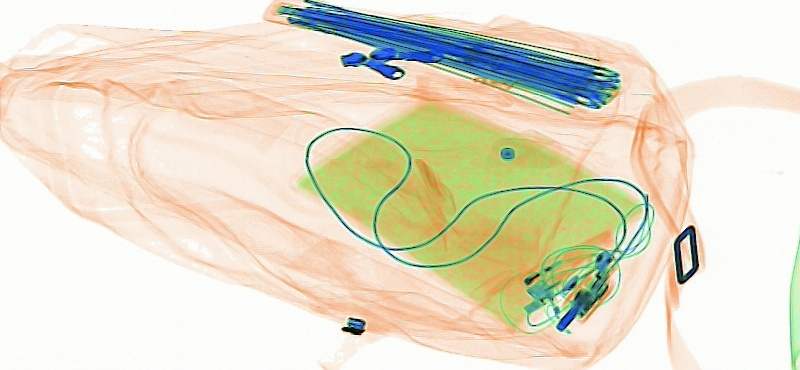lighter: (468, 247, 577, 342)
